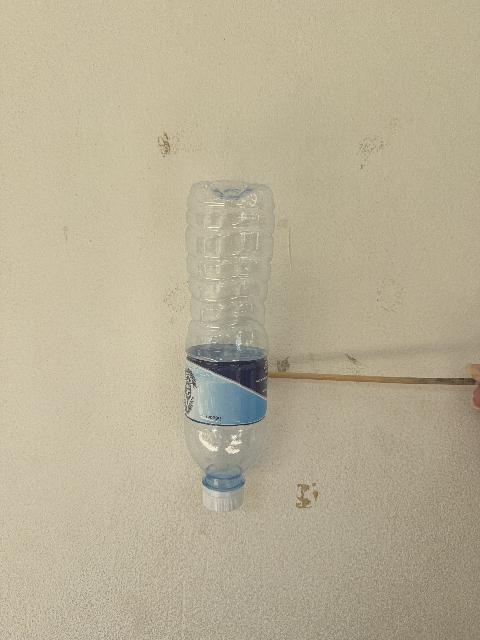bottle: (184, 181, 274, 511)
